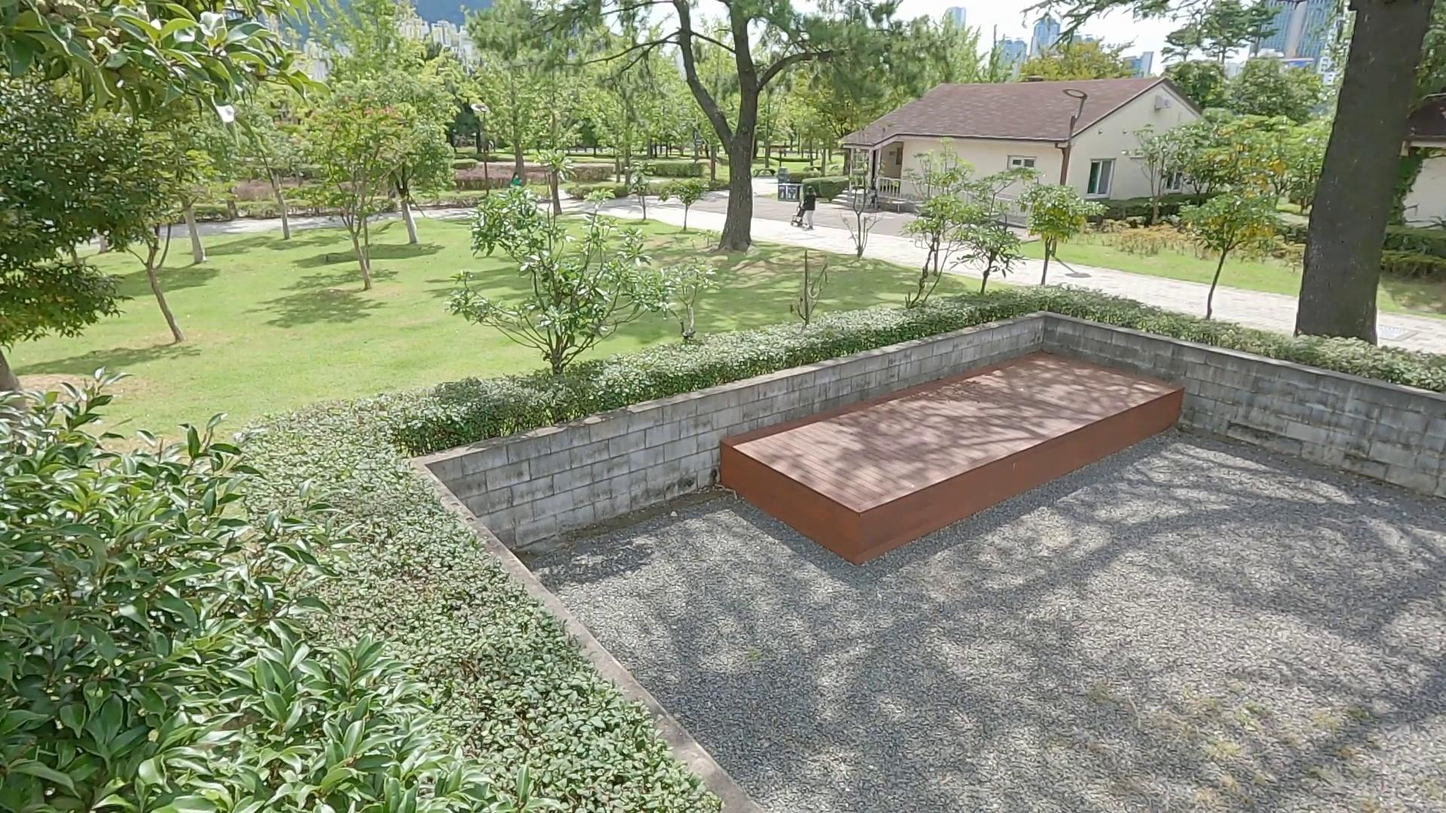person: (802, 184, 817, 232)
